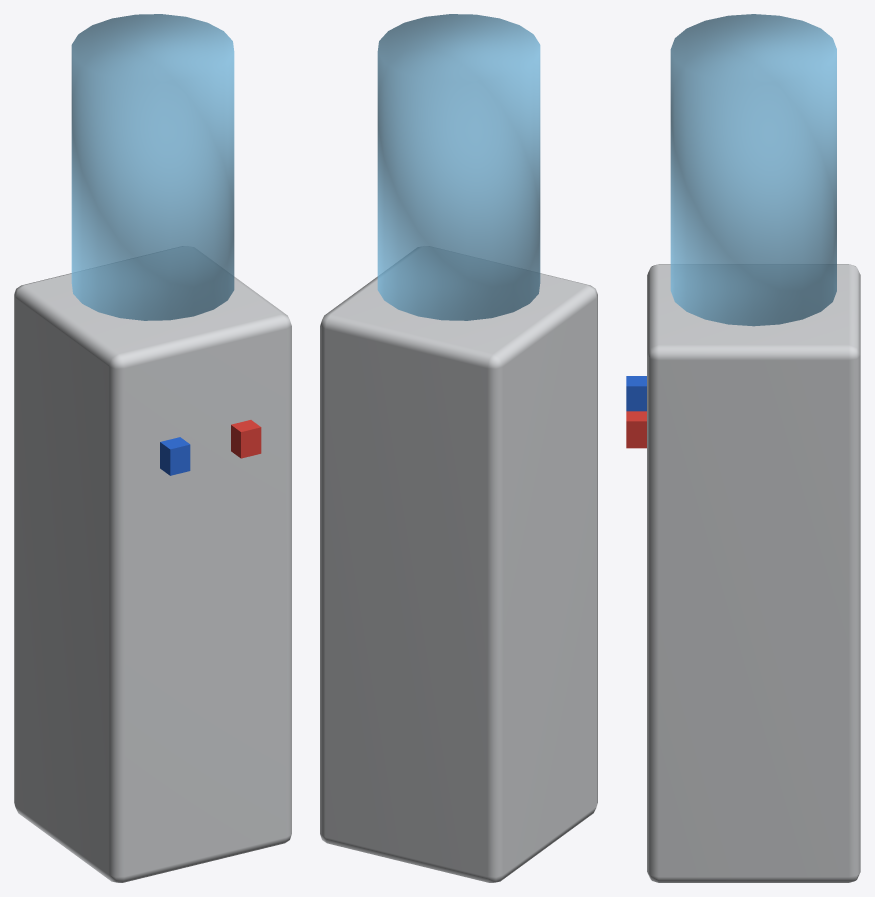
Rendered from WaterCooler.fbx.
3 views of the same model, side by side, from view 1: azimuth 30°, elevation 25°; view 2: azimuth 150°, elevation 25°; view 3: azimuth 270°, elevation 25° (orthographic).
Parts seen in each view (by area): view 1: WaterCoolerBody; view 2: WaterCoolerBody; view 3: WaterCoolerBody.
Part boxes in pixels (x1,y1,x2,y2): WaterCoolerBody: (14,14,291,882); WaterCoolerBody: (320,14,597,882); WaterCoolerBody: (626,14,860,882).
Bounding box in the file's own units: 0.36 × 1.48 × 0.395.
